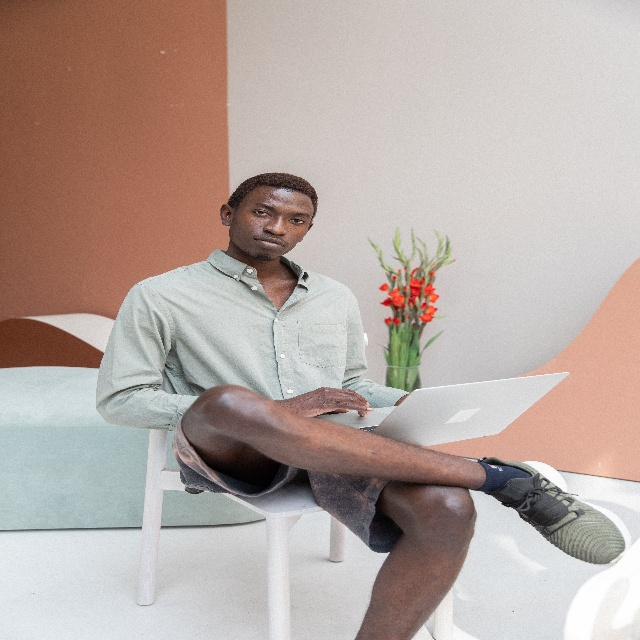Sin_guantes: (271, 385, 374, 418)
